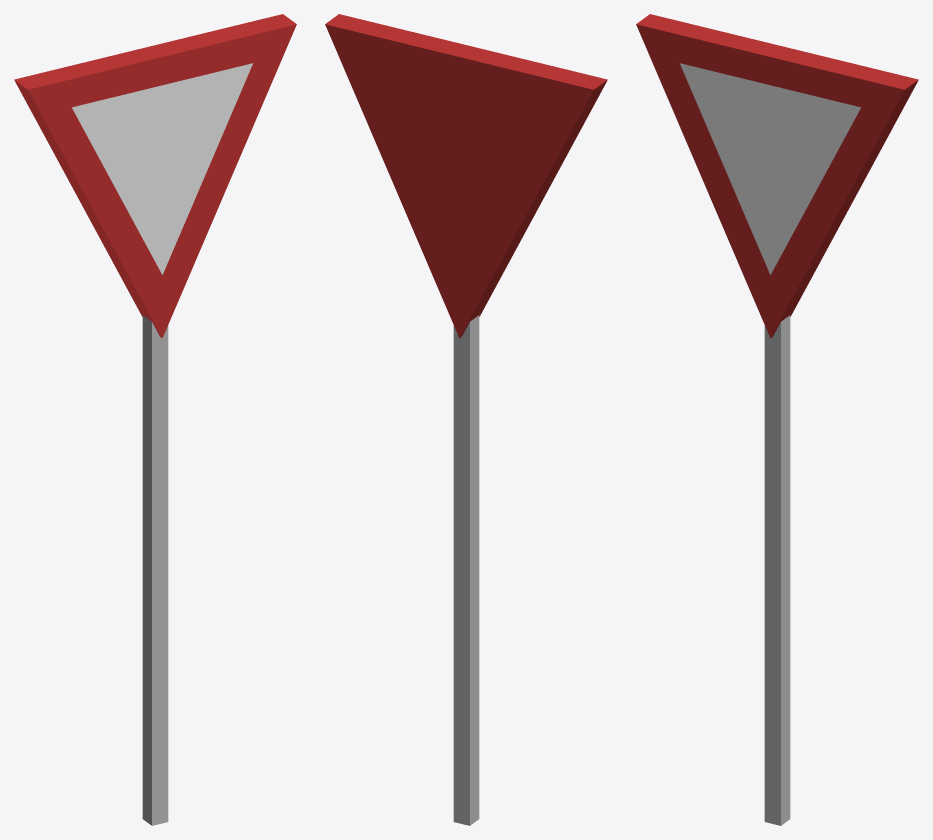
File: Road_Sign_4.fbx
3 views of the same model, side by side, from view 1: azimuth 30°, elevation 25°; view 2: azimuth 150°, elevation 25°; view 3: azimuth 330°, elevation 25° (orthographic).
Parts seen in each view (by area): view 1: Road_Sign_4; view 2: Road_Sign_4; view 3: Road_Sign_4.
Part boxes in pixels (box(x1,y1,x2,y2)): Road_Sign_4: box(14, 14, 296, 825); Road_Sign_4: box(325, 14, 607, 825); Road_Sign_4: box(636, 14, 918, 825).
Size of the model in its own units: 87 by 238 by 7.85.
1 material, 1 textured.
